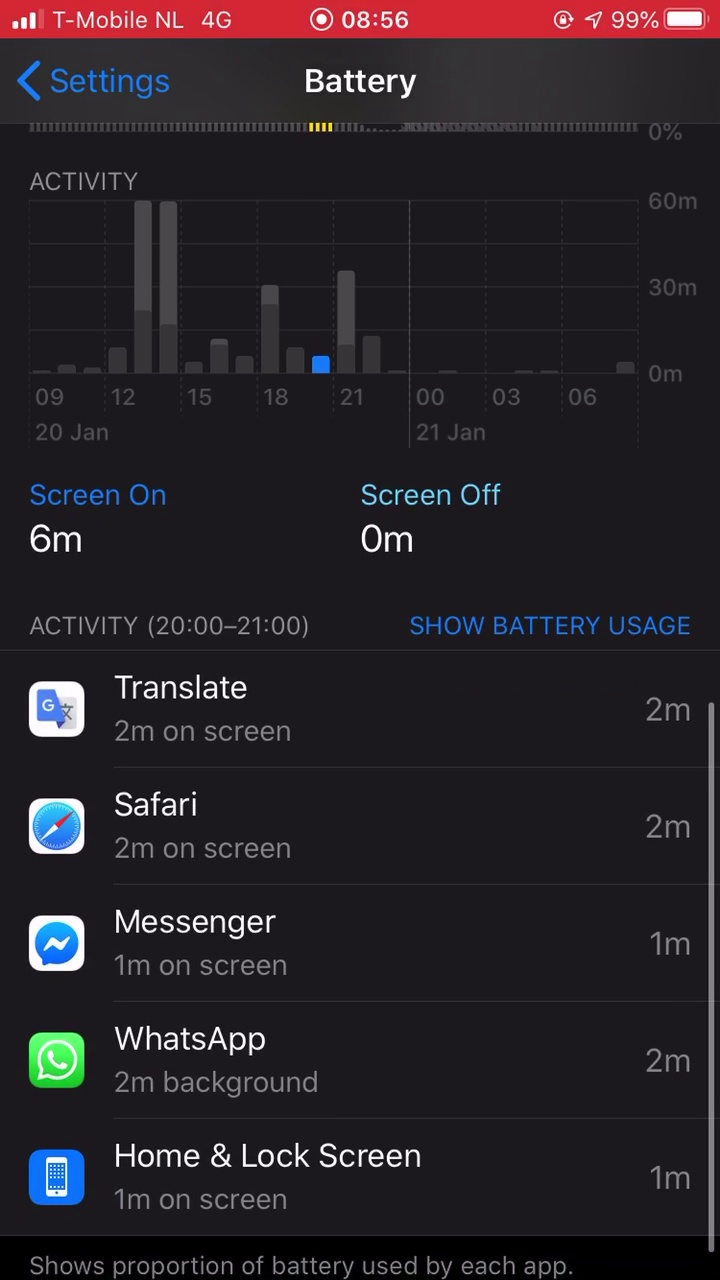activity: (20, 597, 345, 655)
app: (18, 660, 706, 755), (19, 769, 707, 864), (20, 895, 708, 990), (21, 1014, 709, 1109), (22, 1130, 710, 1225)
